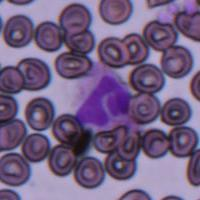N: (73, 66, 132, 130)
